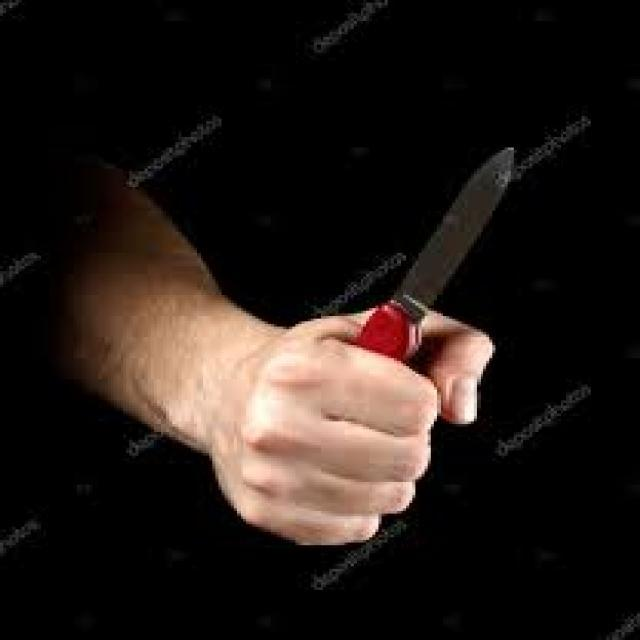faca: (230, 137, 548, 564)
